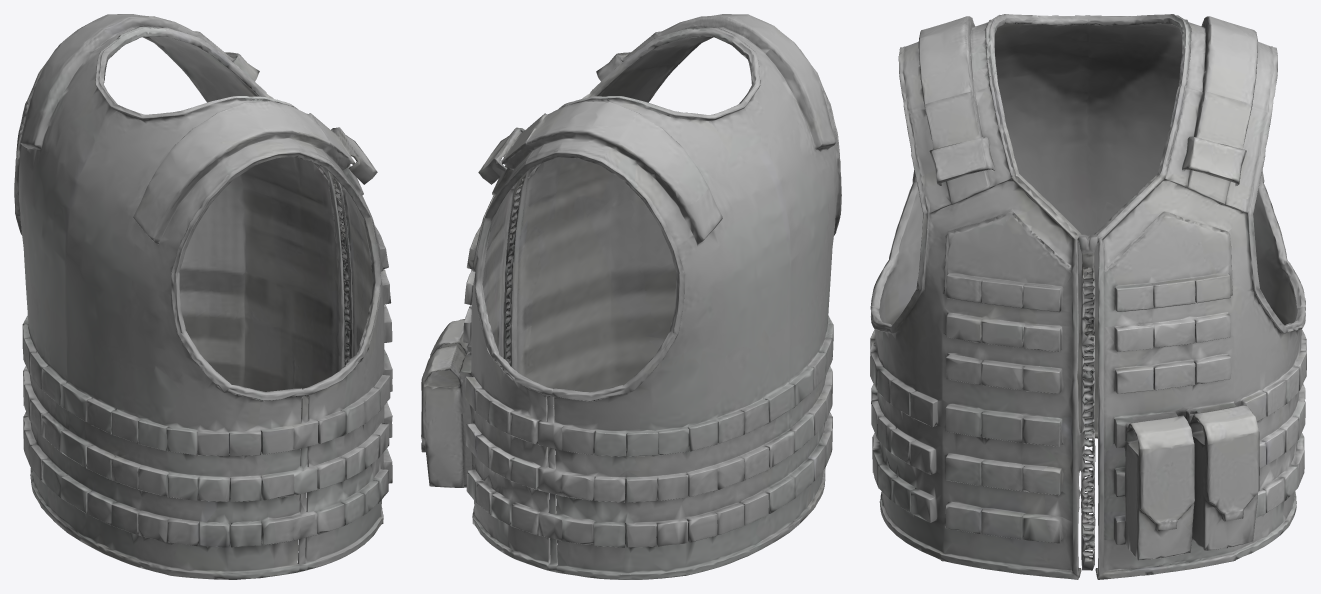
The model's file is farda_colete.glb.
3 views of the same model, side by side, from view 1: azimuth 30°, elevation 25°; view 2: azimuth 150°, elevation 25°; view 3: azimuth 270°, elevation 25° (orthographic). The views are drawn at different scales.
Parts seen in each view (by area): view 1: tripo_node_96f64533-6d14-40e3-a455-e2e254004f52; view 2: tripo_node_96f64533-6d14-40e3-a455-e2e254004f52; view 3: tripo_node_96f64533-6d14-40e3-a455-e2e254004f52.
Boxes of the visible parts, x1,y1,x2,y2 form: tripo_node_96f64533-6d14-40e3-a455-e2e254004f52: (14, 14, 392, 579); tripo_node_96f64533-6d14-40e3-a455-e2e254004f52: (421, 14, 841, 579); tripo_node_96f64533-6d14-40e3-a455-e2e254004f52: (870, 14, 1306, 579).
Bounding box in the file's own units: 0.7713 × 1 × 0.841.
1 material, 1 textured.
